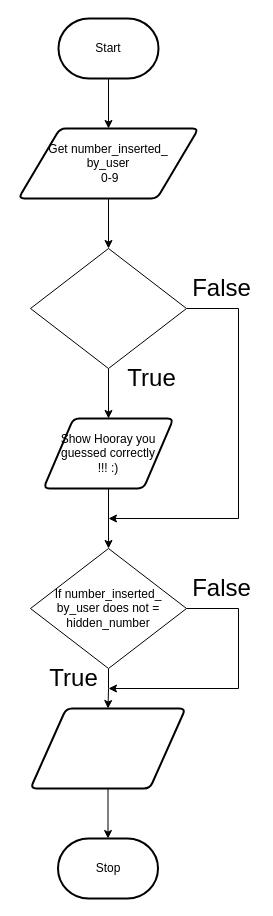
Some shapes in this 273 by 916 pixel diagram are drawn without their labels. Each missing label, with the box of its shape:
If number_inserted_ by_user = secret_number: (30, 248, 186, 368)
Show Oh No !!! you guessed incorrectly :(: (29, 707, 186, 789)
